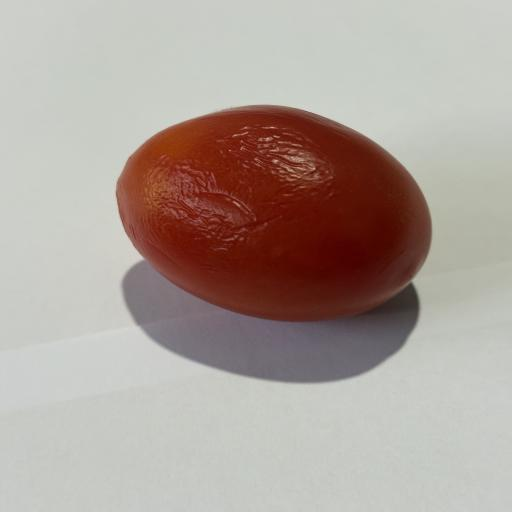spoiled: (116, 106, 431, 320)
